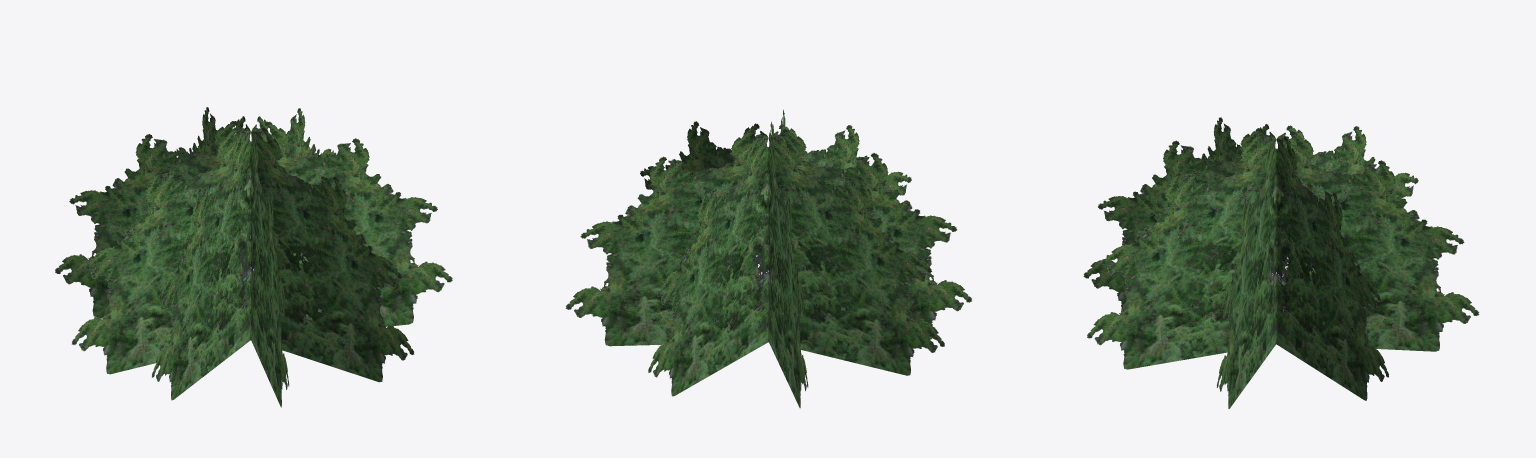
Rendered from BerryBush_02.obj.
The picture shows the model from 3 angles, left to right: view 1: azimuth 30°, elevation 25°; view 2: azimuth 150°, elevation 25°; view 3: azimuth 270°, elevation 25°; orthographic projection.
Visible parts, largest first — view 1: polySurface3; view 2: polySurface3; view 3: polySurface3.
Boxes of the visible parts, x1=… form: polySurface3: x1=55, y1=107, x2=452, y2=407; polySurface3: x1=565, y1=109, x2=971, y2=408; polySurface3: x1=1083, y1=117, x2=1479, y2=408.
Size of the model in its own units: 31.87 by 16.45 by 31.55.
Materials: 1 (1 with a texture image).
